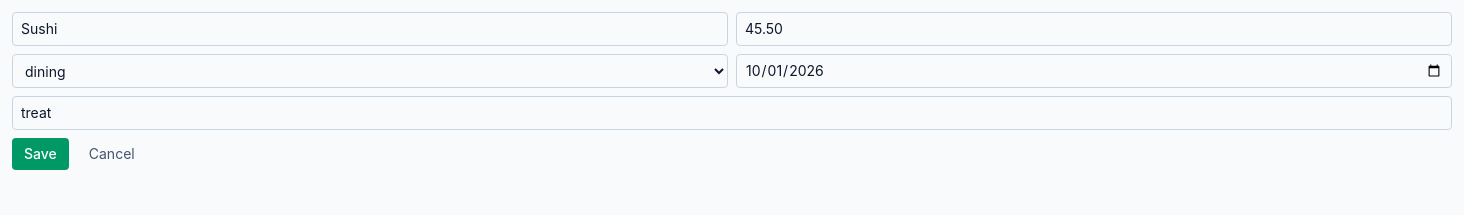
it: EntryEditor › shows the error and stays open when saving fails
Click the button "Save" at (40, 154), box x1=12 y1=138 x2=69 y2=170
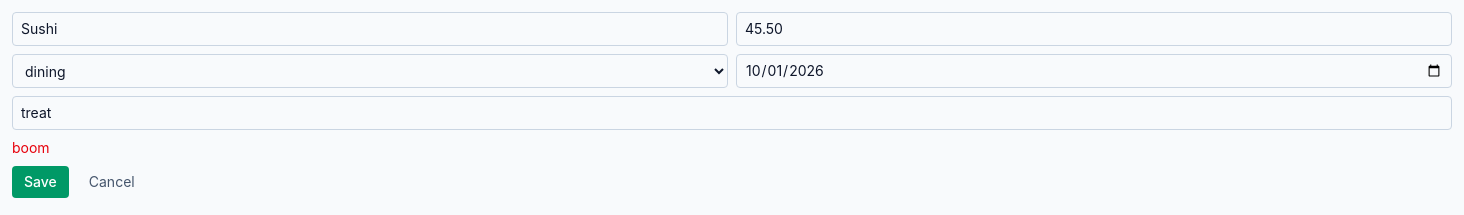
Check: the button "Save" is enabled, box x1=12 y1=166 x2=69 y2=198
Check: the text "boom" is shown, box x1=12 y1=139 x2=50 y2=156
